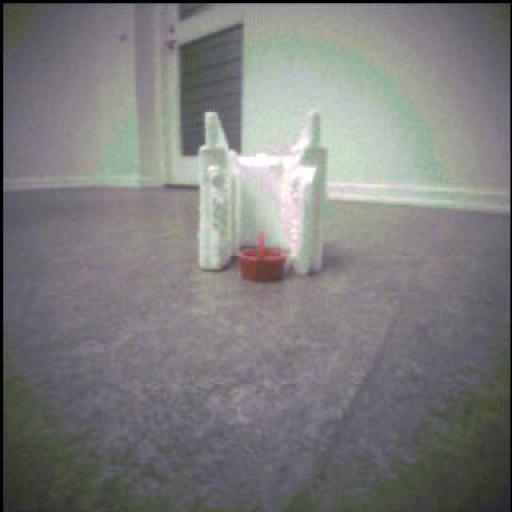Bucket: (238, 233, 287, 283)
